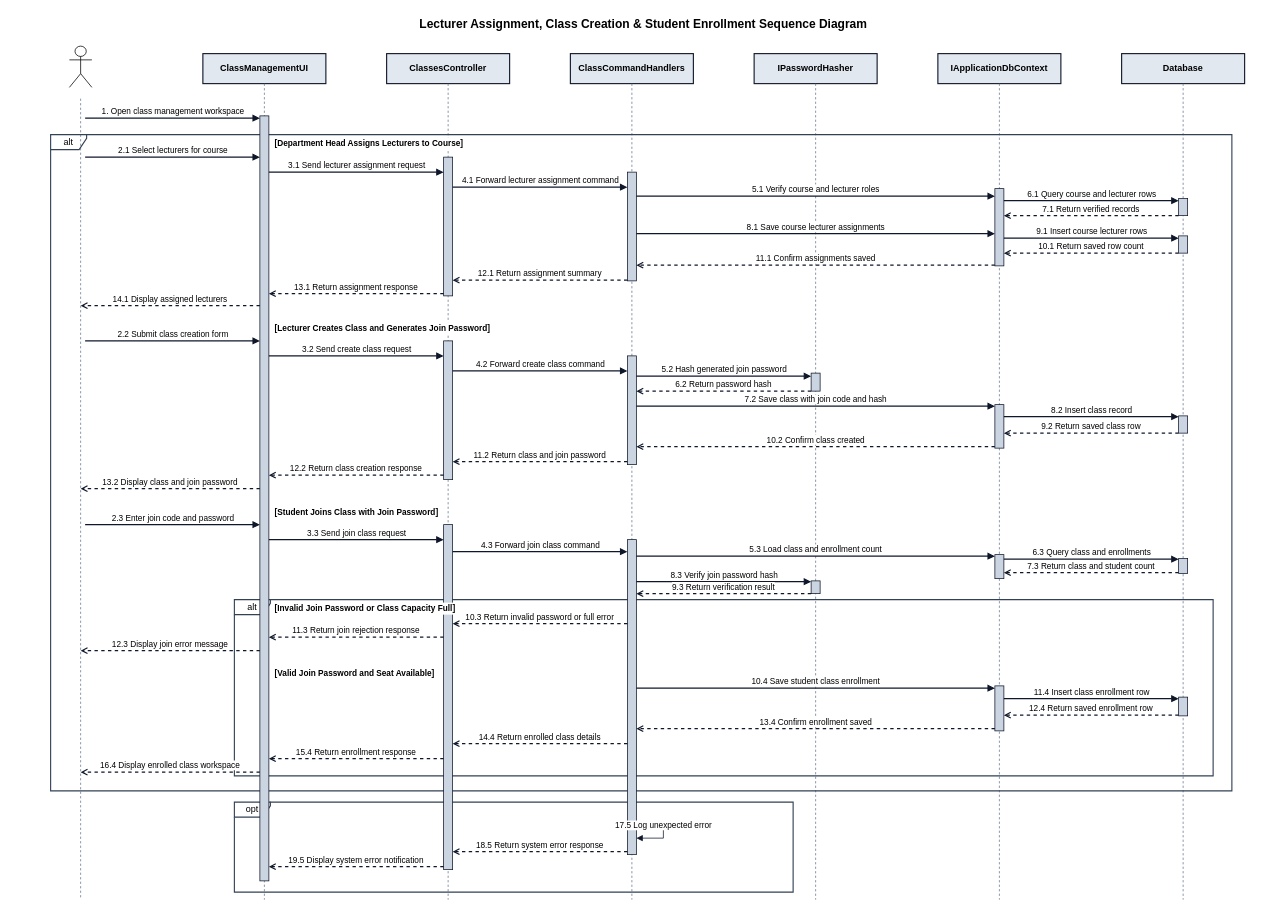
The diagram is 1286 pixels wide and 914 high, and some of its shapes have lost their labels. The shapes that lost their labels are listed below. From the top down, each one's centre as x and y in pixels, then its label:
the point at 80,66: User
the point at 314,811: [Exception occurs]
